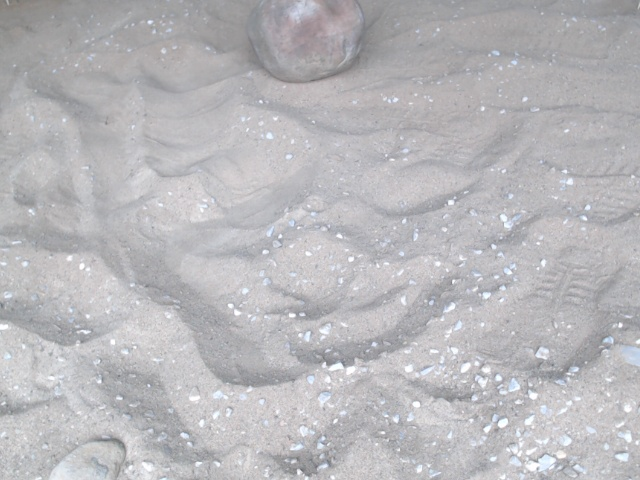rock: (241, 1, 372, 90), (42, 432, 131, 480)
